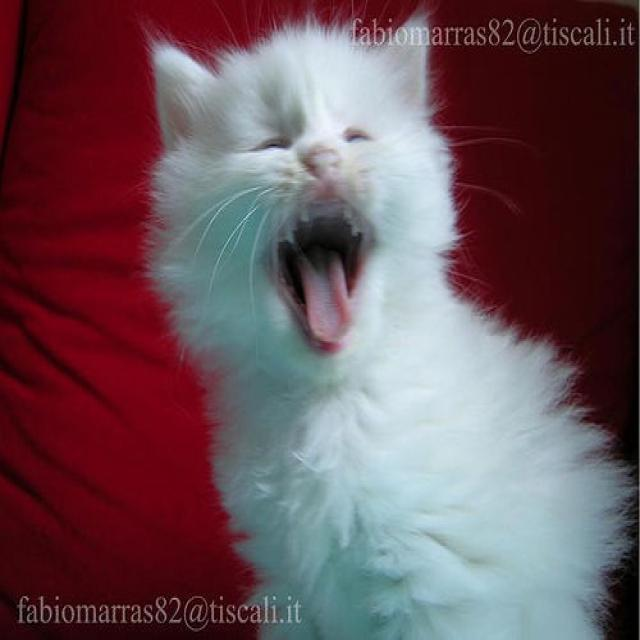cat: (147, 10, 632, 640)
